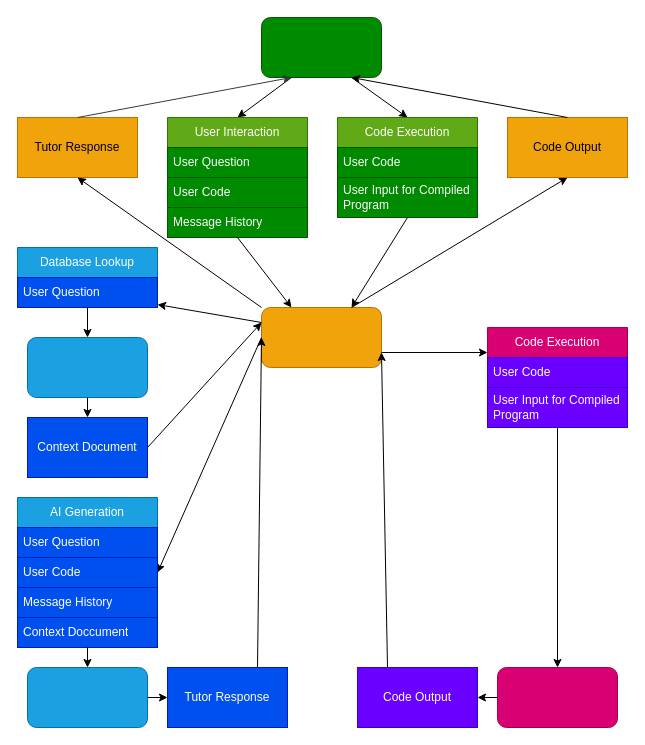
The diagram is 645 pixels wide and 745 high, and some of its shapes have lost their labels. Each missing label, with the centre of its shape:
Backend: [321,337]
Context Database (ChromDB): [87,367]
JsDoodle API: [557,697]
Ollama (Llama 3.2): [87,697]
User Interface: [321,47]
